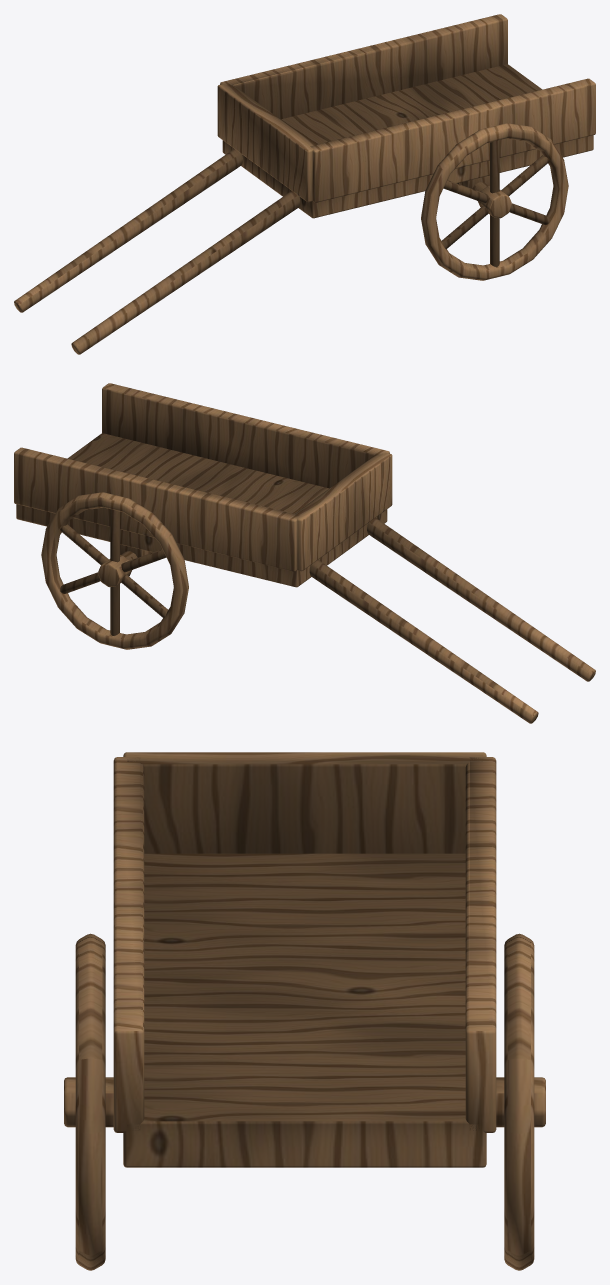
The model's file is p_cart.glb.
3 views of the same model, one above another, from view 1: azimuth 30°, elevation 25°; view 2: azimuth 150°, elevation 25°; view 3: azimuth 270°, elevation 25° (orthographic). The views are drawn at different scales.
Visible parts, largest first — view 1: cart; view 2: cart; view 3: cart.
Part boxes in pixels (bbox=[...]): cart: bbox=[14, 14, 595, 354]; cart: bbox=[14, 383, 595, 723]; cart: bbox=[64, 752, 545, 1270].
Bounding box in the file's own units: 3.04 × 0.9453 × 1.26.
1 material, 1 textured.
